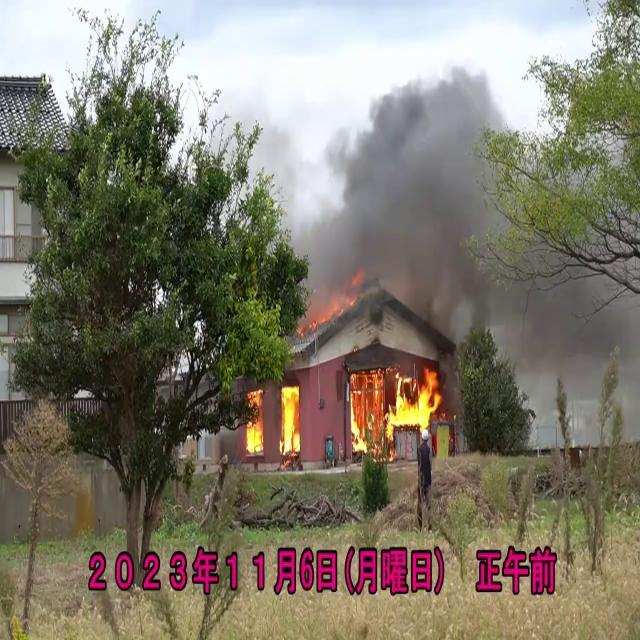Fire: (352, 362, 440, 452), (276, 381, 306, 462)
Smoke: (300, 40, 512, 332)
